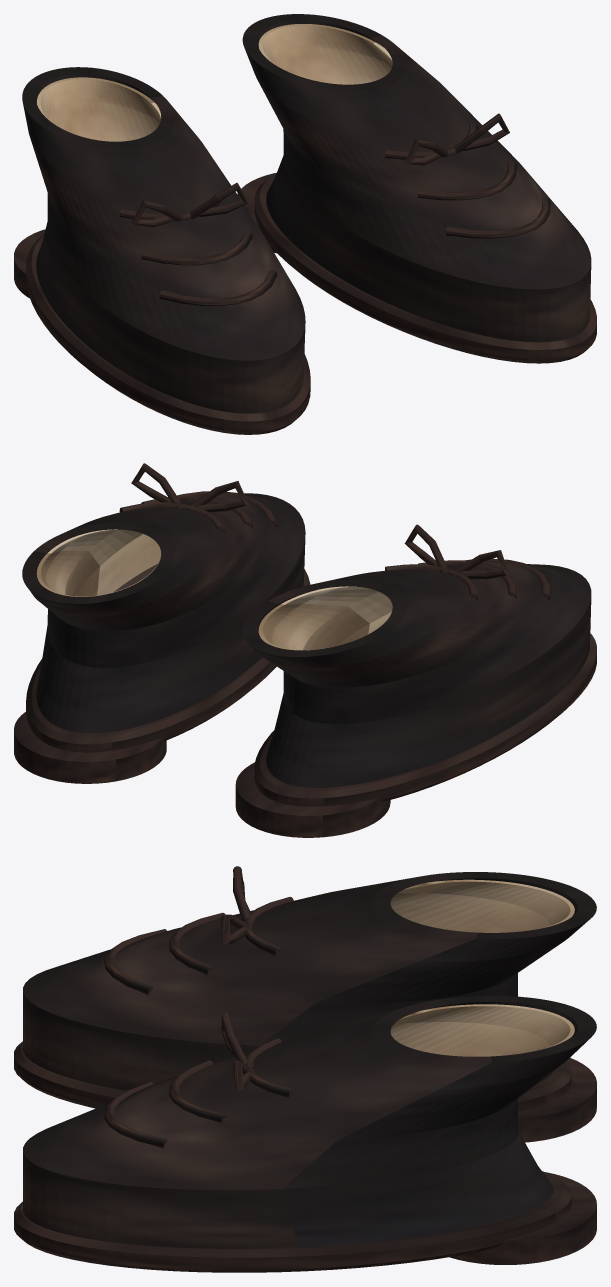
The picture shows the model from 3 angles, top to bottom: view 1: azimuth 30°, elevation 25°; view 2: azimuth 150°, elevation 25°; view 3: azimuth 270°, elevation 25°; orthographic projection. The views are drawn at different scales.
Visible parts, largest first — view 1: right_upper, left_upper, right_sole, left_sole, right_lining, left_lining, left_lace_0, right_lace_0, left_lace_1, right_lace_1, left_lace_loop_1, right_lace_loop_1 (+3 smaller); view 2: left_upper, right_upper, left_sole, left_lining, right_lining, right_sole, right_heel, left_heel, right_lace_loop_0, left_lace_loop_0, right_lace_loop_1, left_lace_loop_1 (+2 smaller); view 3: right_upper, left_upper, right_sole, left_lining, right_lining, right_heel, left_sole, left_heel, right_lace_0, right_lace_1, left_lace_0, left_lace_1 (+5 smaller).
Part boxes in pixels (x1,y1,x2,y2): right_upper: (242,14,591,342); left_upper: (22,67,305,413); right_sole: (254,175,596,363); left_sole: (26,235,310,434); right_lining: (258,24,392,84); left_lining: (36,77,161,141); left_lace_0: (159,269,277,306); right_lace_0: (446,197,550,238); left_lace_1: (141,231,252,265); right_lace_1: (417,161,516,200); left_lace_loop_1: (186,182,249,218); right_lace_loop_1: (448,113,509,153); left_upper: (242,562,591,787); right_upper: (22,493,305,733); left_sole: (254,633,596,806); left_lining: (258,586,392,650); right_lining: (36,529,161,596); right_sole: (26,569,310,752); right_heel: (14,711,166,783); left_heel: (235,762,390,837); right_lace_loop_0: (185,481,249,512); left_lace_loop_0: (449,550,509,579); right_lace_loop_1: (131,463,181,508); left_lace_loop_1: (404,524,447,572); right_upper: (23,995,596,1248); left_upper: (23,872,596,1090); right_sole: (14,1171,571,1272); left_lining: (390,879,574,932); right_lining: (390,1004,574,1056); right_heel: (450,1172,596,1264); left_sole: (14,1041,571,1111); left_heel: (518,1058,596,1142); right_lace_0: (104,1082,167,1148); right_lace_1: (169,1060,226,1122); left_lace_0: (104,929,166,995); left_lace_1: (169,912,225,975).
Bounding box in the file's own units: 92 × 36.37 × 92.01.
3 materials, 3 textured.
